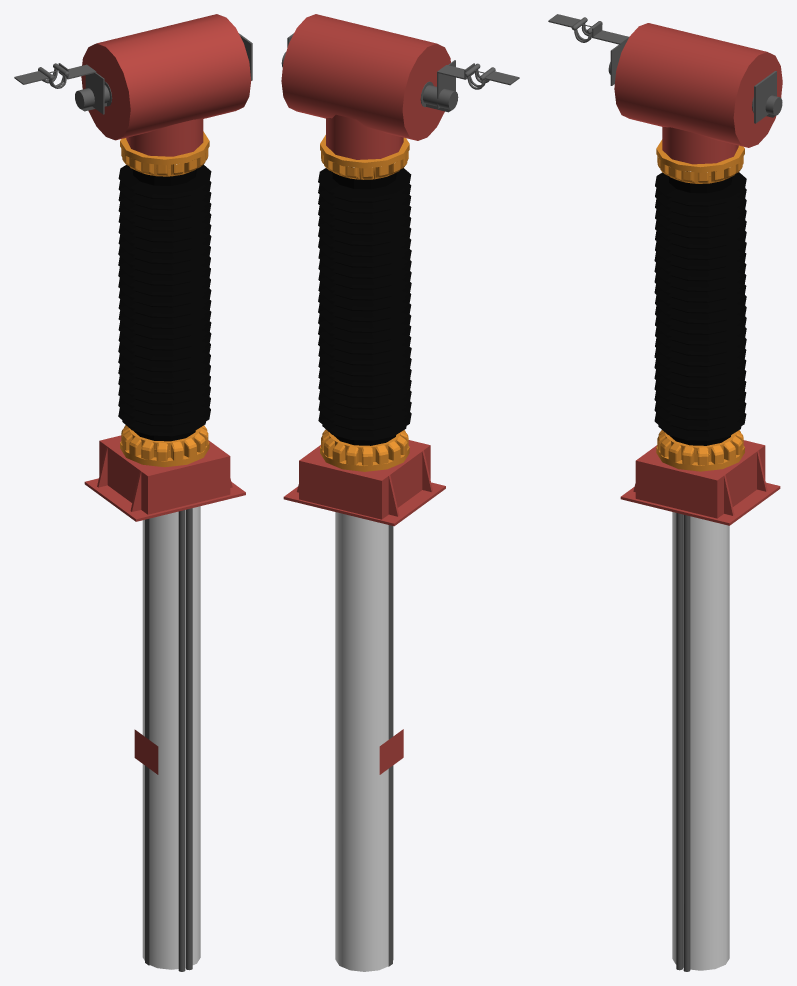
Rendered from 良庆站220kV_220kV_变电设备_一次设备_电流_a092d80.glb.
3 renders of one model, left to right at view 1: azimuth 30°, elevation 25°; view 2: azimuth 150°, elevation 25°; view 3: azimuth 330°, elevation 25°, orthographic.
Visible parts, largest first — view 1: 良庆站220kV_220kV_变电设备_一次设备_电流_a092d.003; view 2: 良庆站220kV_220kV_变电设备_一次设备_电流_a092d.003; view 3: 良庆站220kV_220kV_变电设备_一次设备_电流_a092d.003.
Boxes of the visible parts, bbox=[...] form: 良庆站220kV_220kV_变电设备_一次设备_电流_a092d.003: bbox=[14, 14, 252, 971]; 良庆站220kV_220kV_变电设备_一次设备_电流_a092d.003: bbox=[281, 14, 519, 971]; 良庆站220kV_220kV_变电设备_一次设备_电流_a092d.003: bbox=[548, 14, 782, 971].
Bounding box in the file's own units: 1.82 × 7.07 × 0.7187.
